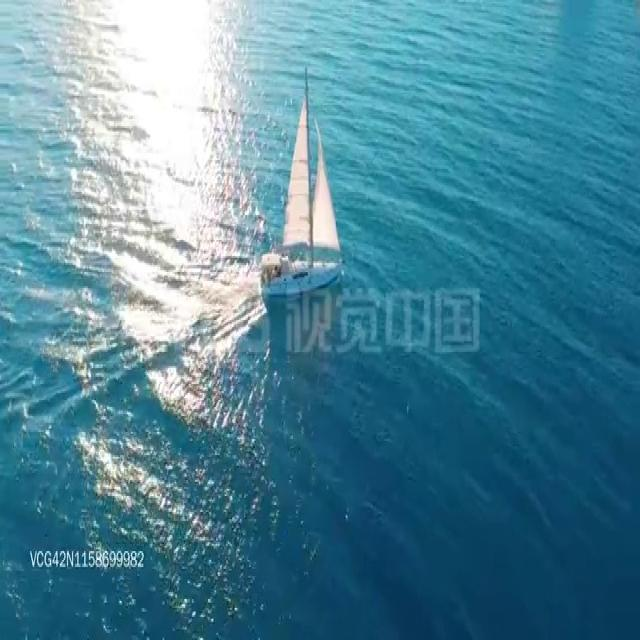sailboat: (257, 64, 342, 295)
